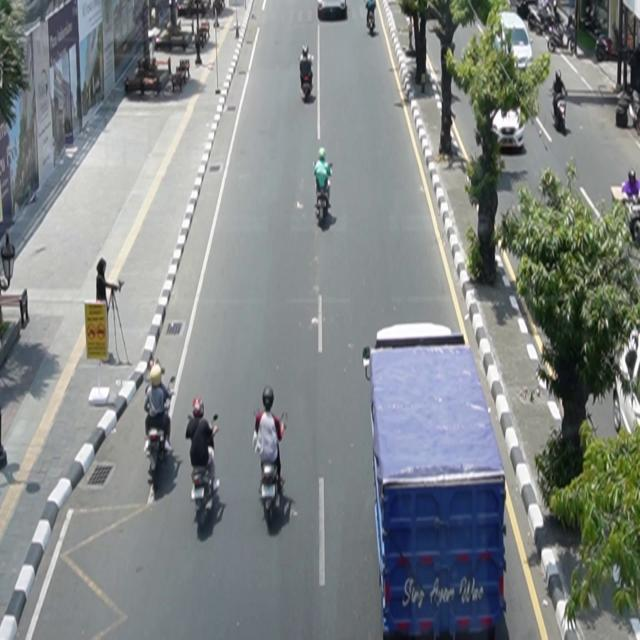bus: (363, 323, 508, 639)
